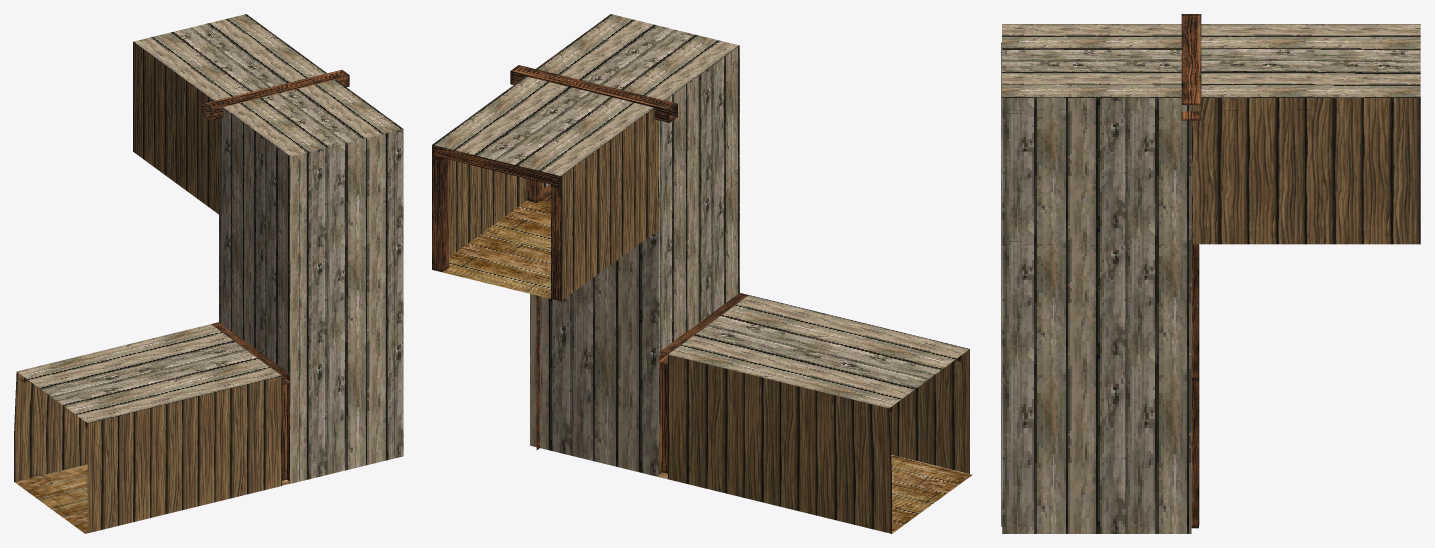
Rendered from LAKETOWN_WAREHOUSE2_PS_WH2_CELLARSHAFT998__GX.fbx.
3 views of the same model, side by side, from view 1: azimuth 30°, elevation 25°; view 2: azimuth 150°, elevation 25°; view 3: azimuth 270°, elevation 25° (orthographic). The views are drawn at different scales.
Visible parts, largest first — view 1: LAKETOWN_WAREHOUSE2_PS_WH2_CELLARSHAFT998__GX; view 2: LAKETOWN_WAREHOUSE2_PS_WH2_CELLARSHAFT998__GX; view 3: LAKETOWN_WAREHOUSE2_PS_WH2_CELLARSHAFT998__GX.
Part boxes in pixels (left/top/right/bottom): LAKETOWN_WAREHOUSE2_PS_WH2_CELLARSHAFT998__GX: left=14, top=14, right=403, bottom=533; LAKETOWN_WAREHOUSE2_PS_WH2_CELLARSHAFT998__GX: left=432, top=14, right=972, bottom=533; LAKETOWN_WAREHOUSE2_PS_WH2_CELLARSHAFT998__GX: left=1001, top=14, right=1420, bottom=533.
Bounding box in the file's own units: 64253 × 60806 × 52789.
5 materials, 5 textured.
